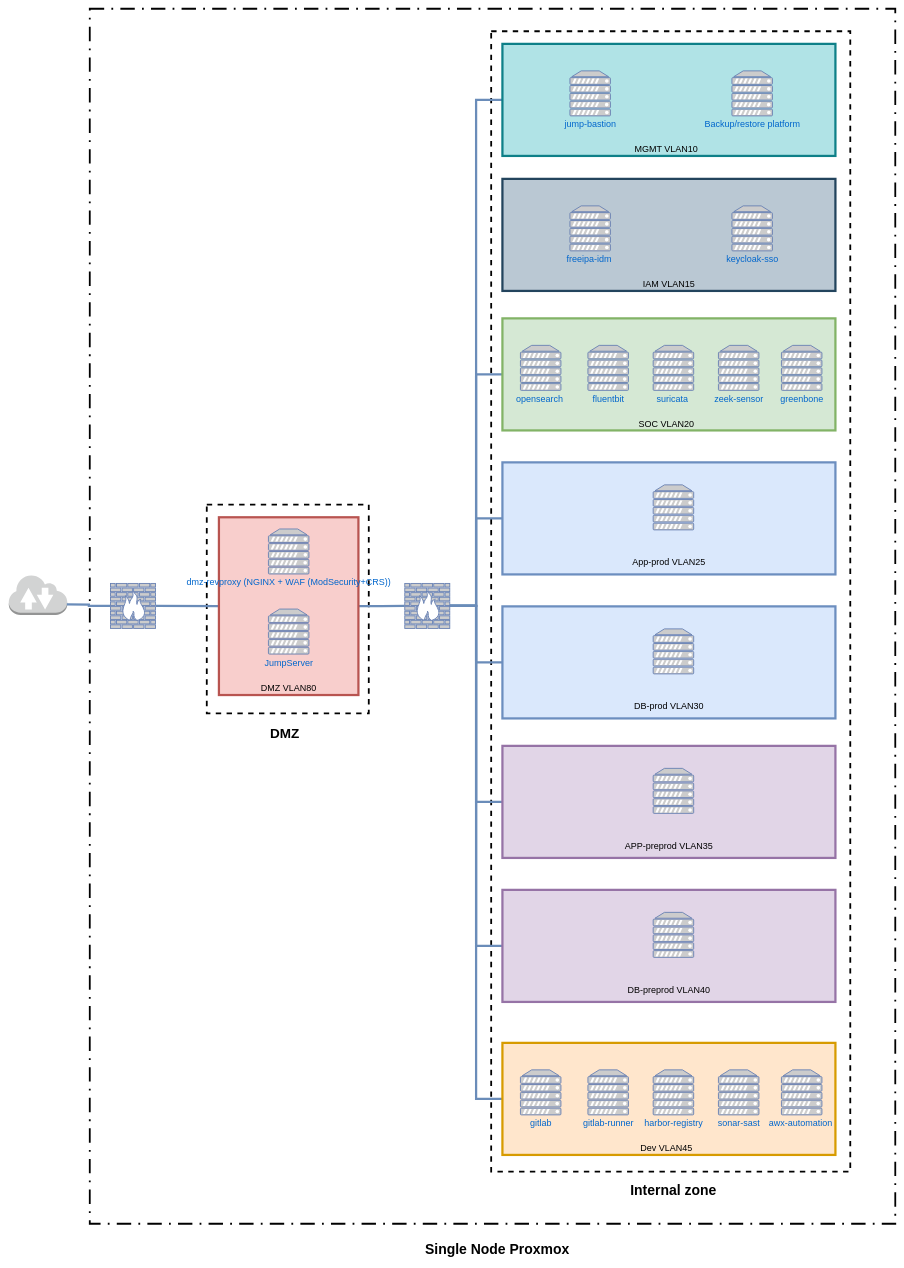
Some shapes in this 904 by 1268 pixel diagram are drawn without their labels. The shapes that lost their labels are listed below. From the top down, each one's centre as x and y in pixels, then its label:
At (x=673, y=507): "App-prod".
At (x=673, y=651): "DB-prod".
At (x=673, y=790): "App-preprod".
At (x=673, y=934): "DB-preprod".
